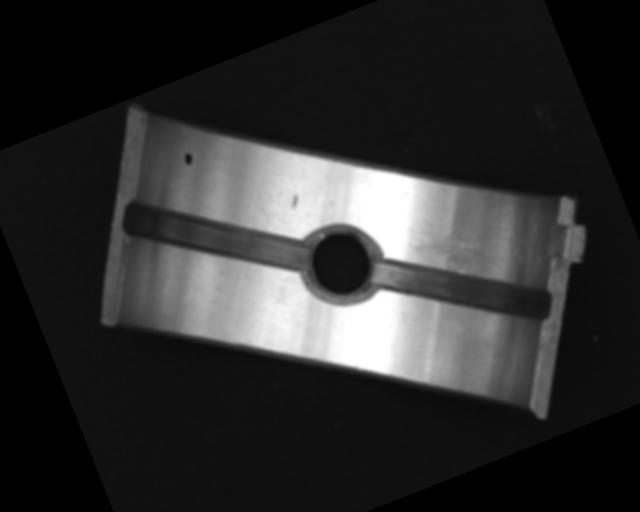blot: (181, 151, 195, 168)
bruise: (288, 193, 303, 210)
gap: (123, 152, 309, 322), (370, 210, 555, 374)
hole: (290, 213, 391, 317)
scratch: (403, 210, 510, 303)
